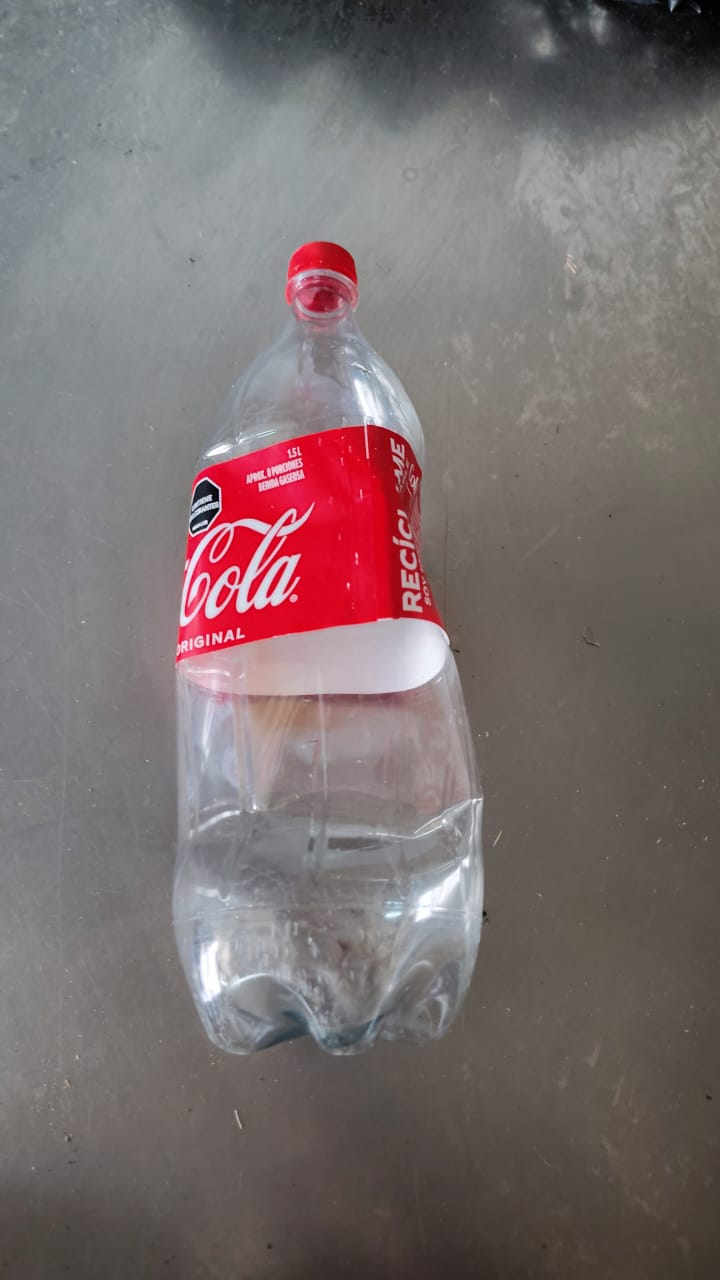Plastico: (166, 243, 482, 1059)
